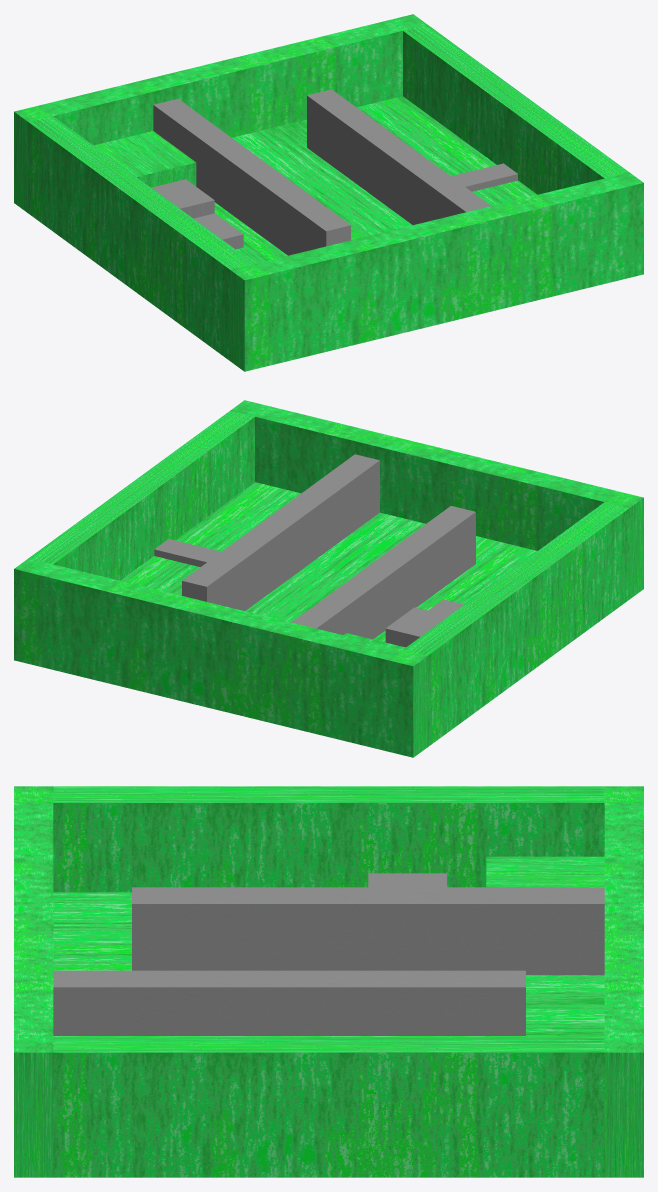
The model's file is Stage01.fbx.
The picture shows the model from 3 angles, top to bottom: view 1: azimuth 30°, elevation 25°; view 2: azimuth 150°, elevation 25°; view 3: azimuth 270°, elevation 25°; orthographic projection. The views are drawn at different scales.
Parts seen in each view (by area): view 1: Box004, Box002, Box005, Box003, Ground, Box007, Box006, dodai, kaidan, asiba; view 2: Box005, Box004, Box002, Box003, Ground, Box006, Box007, kaidan, asiba; view 3: Box003, Box002, Box007, Box006, Box005, Box004, Ground, dodai, kaidan.
Part boxes in pixels (<box>): Box004: <box>230,172,643,371</box>; Box002: <box>28,116,254,360</box>; Box005: <box>14,14,427,212</box>; Box003: <box>403,24,629,194</box>; Ground: <box>214,96,537,263</box>; Box007: <box>153,99,350,255</box>; Box006: <box>307,89,490,224</box>; dodai: <box>94,131,196,187</box>; kaidan: <box>151,179,243,249</box>; asiba: <box>451,163,517,191</box>; Box005: <box>14,558,427,757</box>; Box004: <box>230,400,643,598</box>; Box002: <box>403,502,629,746</box>; Box003: <box>28,410,254,580</box>; Ground: <box>120,482,537,642</box>; Box006: <box>182,454,379,610</box>; Box007: <box>292,506,475,639</box>; kaidan: <box>385,599,464,647</box>; asiba: <box>154,539,221,566</box>; Box003: <box>53,1036,604,1177</box>; Box002: <box>53,786,604,892</box>; Box007: <box>132,887,604,975</box>; Box006: <box>53,970,525,1035</box>; Box005: <box>604,786,643,1177</box>; Box004: <box>14,786,53,1177</box>; Ground: <box>53,892,604,1035</box>; dodai: <box>486,856,604,887</box>; kaidan: <box>368,873,446,887</box>.
Bounding box in the file's own units: 8000 × 8000 × 1750.
